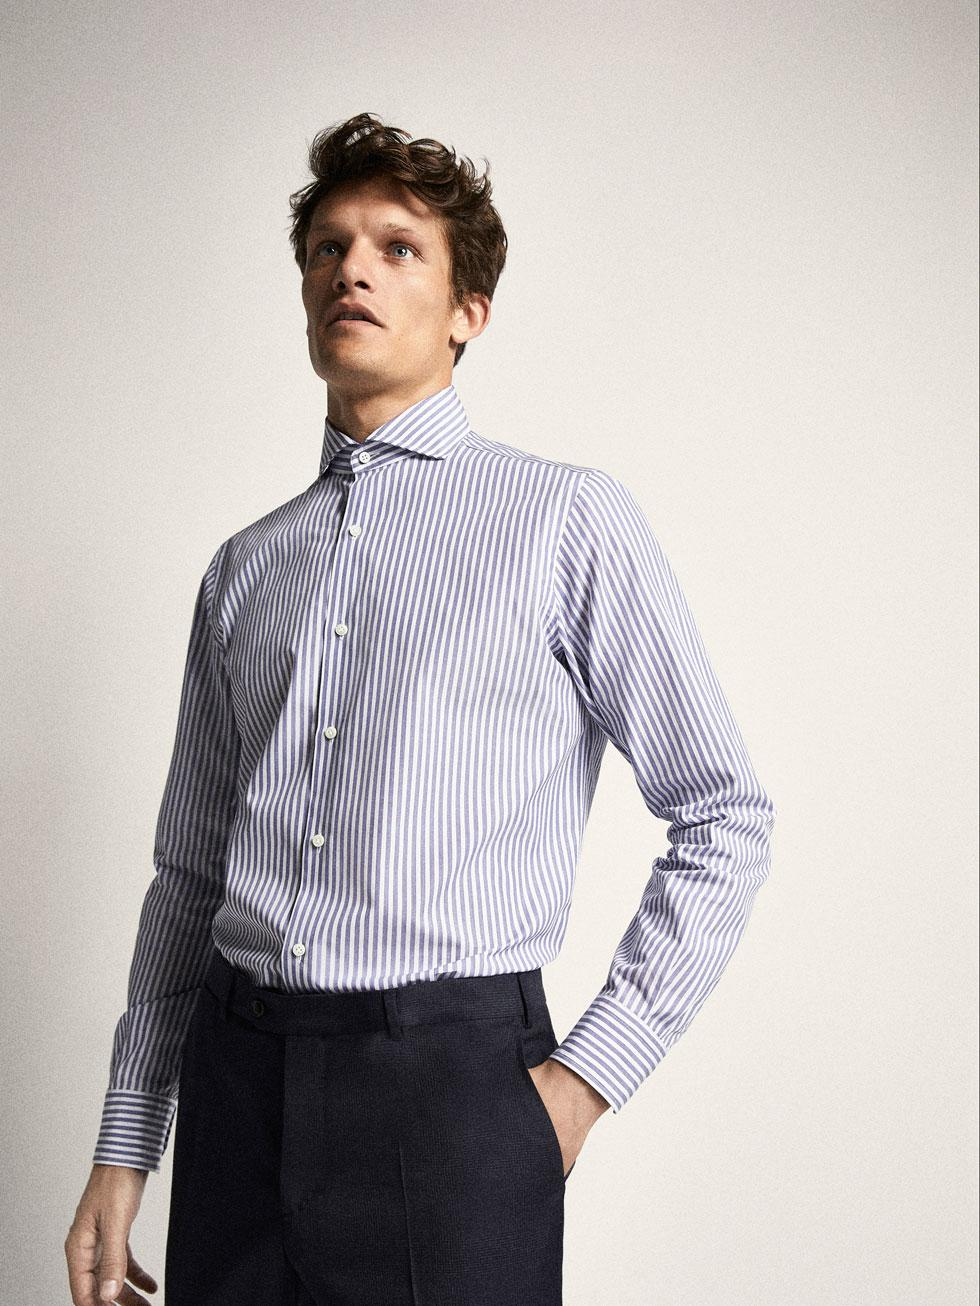teeshirt: (89, 391, 783, 1191)
